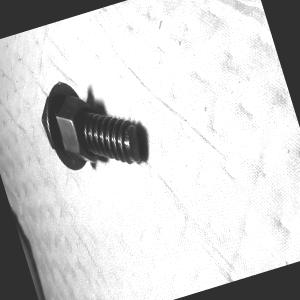parafuso: (32, 64, 150, 188)
